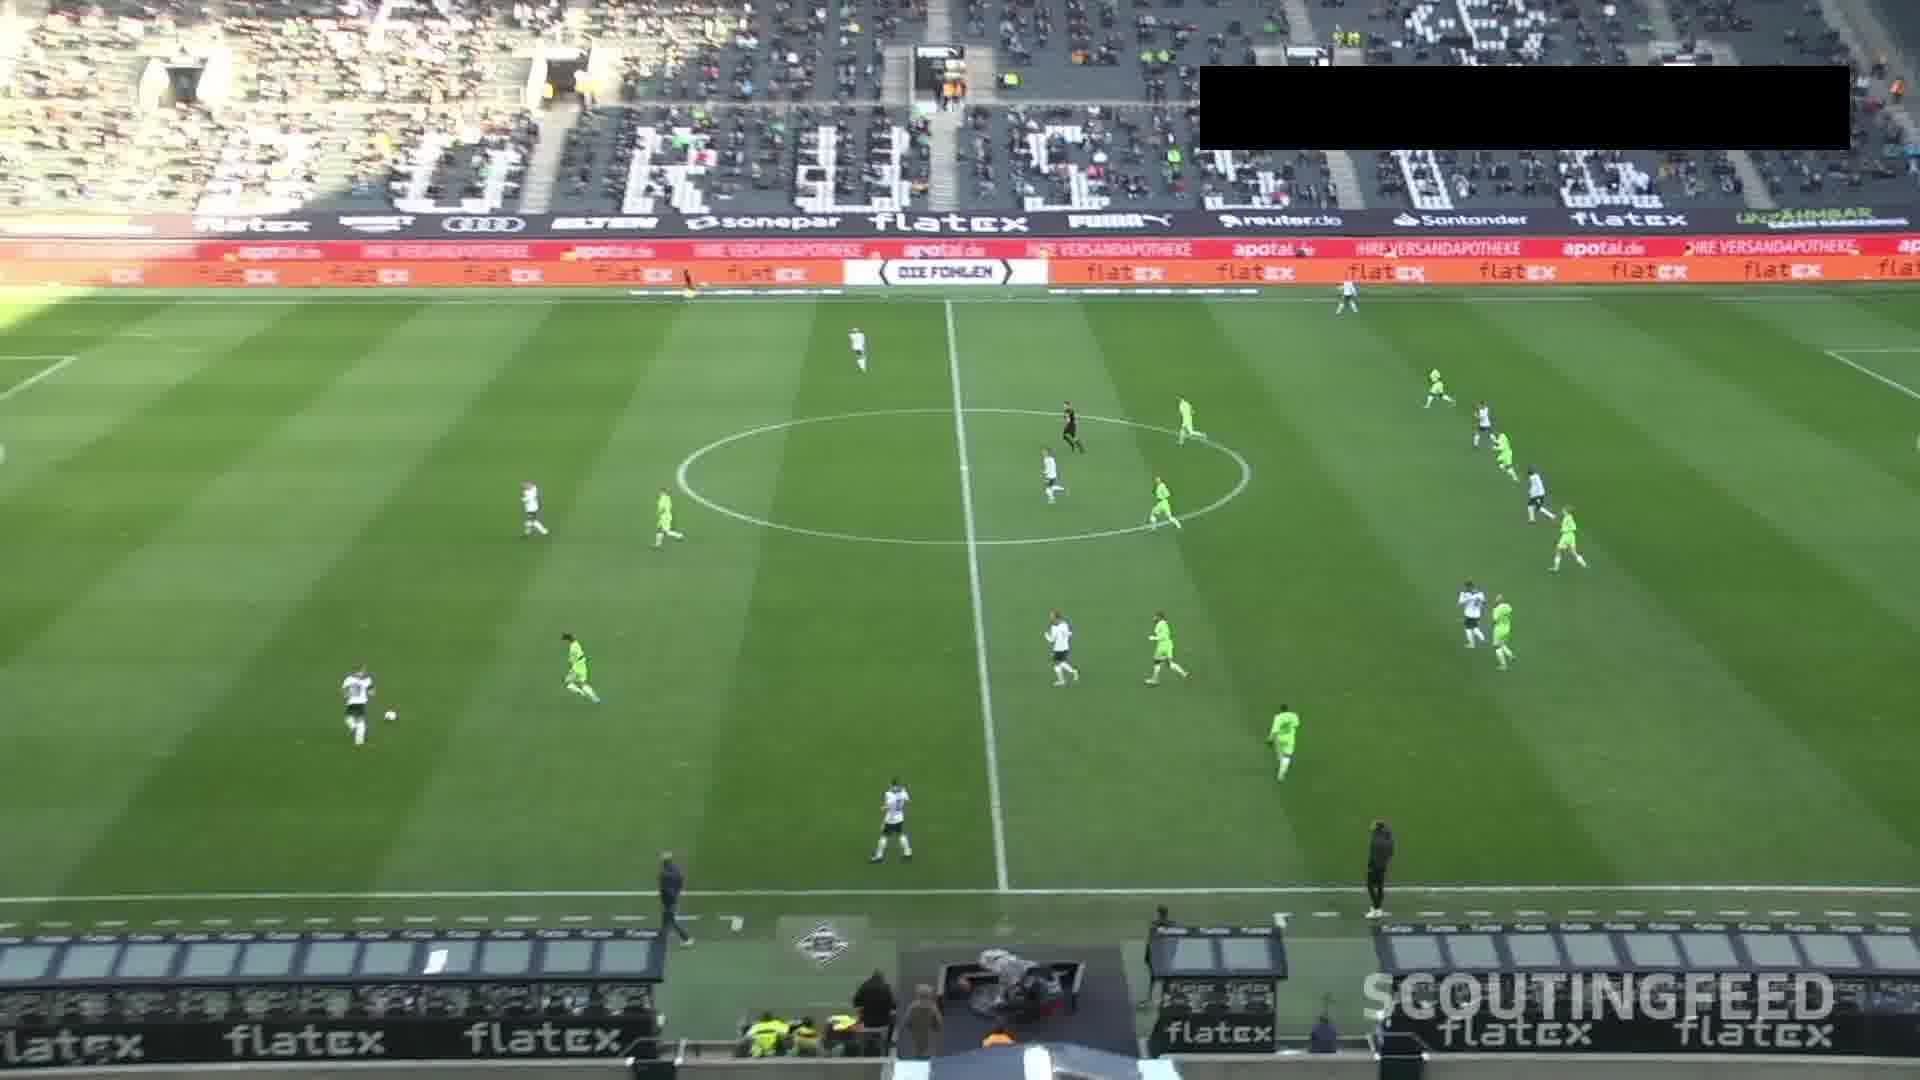football: (385, 711, 398, 721)
